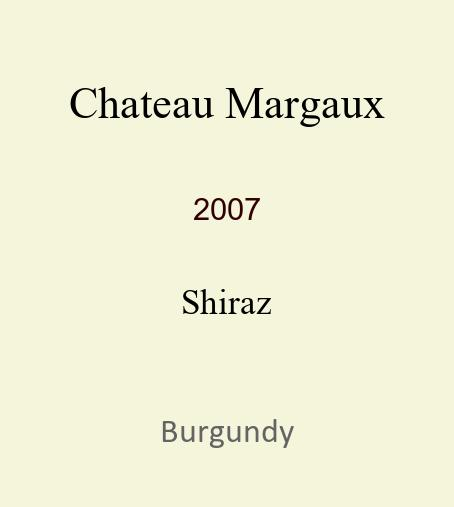brand: (69, 78, 385, 118)
region: (160, 416, 294, 445)
variety: (181, 282, 272, 307)
vintage: (193, 191, 261, 213)
